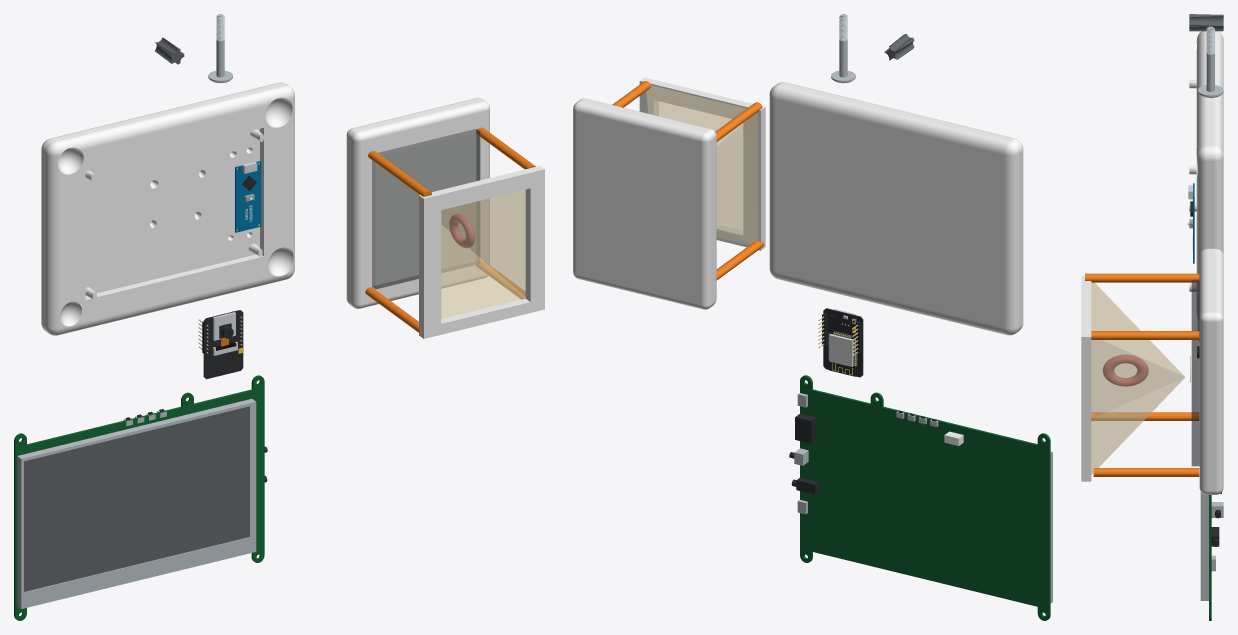
File: tinker.obj
The picture shows the model from 3 angles, left to right: view 1: azimuth 30°, elevation 25°; view 2: azimuth 150°, elevation 25°; view 3: azimuth 270°, elevation 25°; orthographic projection. The views are drawn at different scales.
Visible parts, largest first — view 1: obj_10, obj_16, obj_5, obj_6, obj_7, obj_9, obj_15, obj_17; view 2: obj_10, obj_16, obj_5, obj_7, obj_9, obj_15, obj_17; view 3: obj_7, obj_5, obj_10, obj_9, obj_16, obj_6, obj_4, obj_2, obj_3, obj_8, obj_0, obj_17 (+1 smaller).
Part boxes in pixels (x1=…): obj_10: x1=41, y1=82, x2=294, y2=335; obj_16: x1=14, y1=375, x2=267, y2=620; obj_5: x1=346, y1=97, x2=489, y2=308; obj_6: x1=372, y1=129, x2=480, y2=288; obj_7: x1=441, y1=190, x2=525, y2=318; obj_9: x1=419, y1=166, x2=544, y2=338; obj_15: x1=198, y1=310, x2=243, y2=379; obj_17: x1=208, y1=14, x2=232, y2=82; obj_10: x1=769, y1=82, x2=1023, y2=335; obj_16: x1=789, y1=375, x2=1052, y2=620; obj_5: x1=573, y1=98, x2=716, y2=309; obj_7: x1=645, y1=85, x2=757, y2=244; obj_9: x1=639, y1=77, x2=765, y2=250; obj_15: x1=818, y1=308, x2=863, y2=377; obj_17: x1=831, y1=14, x2=855, y2=83; obj_7: x1=1091, y1=282, x2=1184, y2=474; obj_5: x1=1199, y1=248, x2=1223, y2=494; obj_10: x1=1187, y1=31, x2=1223, y2=341; obj_9: x1=1081, y1=276, x2=1091, y2=481; obj_16: x1=1200, y1=491, x2=1223, y2=620; obj_6: x1=1191, y1=278, x2=1199, y2=466; obj_4: x1=1085, y1=273, x2=1199, y2=282; obj_2: x1=1091, y1=331, x2=1199, y2=339; obj_3: x1=1091, y1=412, x2=1198, y2=420; obj_8: x1=1093, y1=468, x2=1199, y2=476; obj_0: x1=1102, y1=354, x2=1148, y2=386; obj_17: x1=1198, y1=26, x2=1223, y2=97.
Size of the model in its own units: 328 by 369 by 83.
